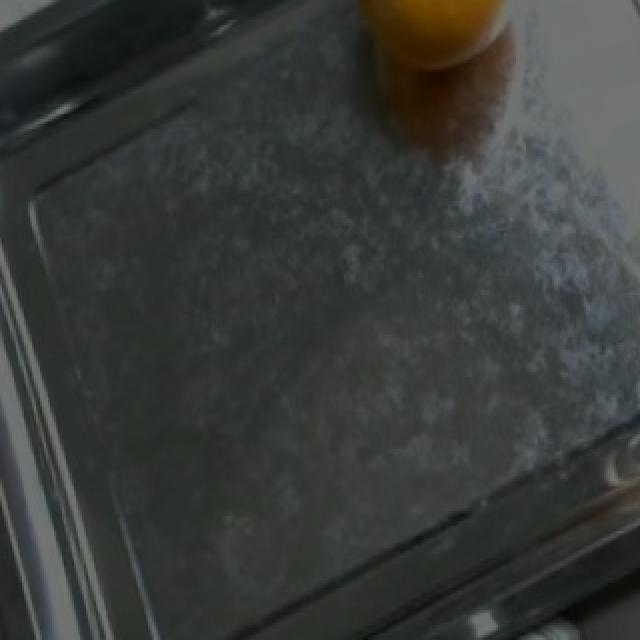Fruit: (324, 3, 538, 99), (0, 0, 150, 74)
